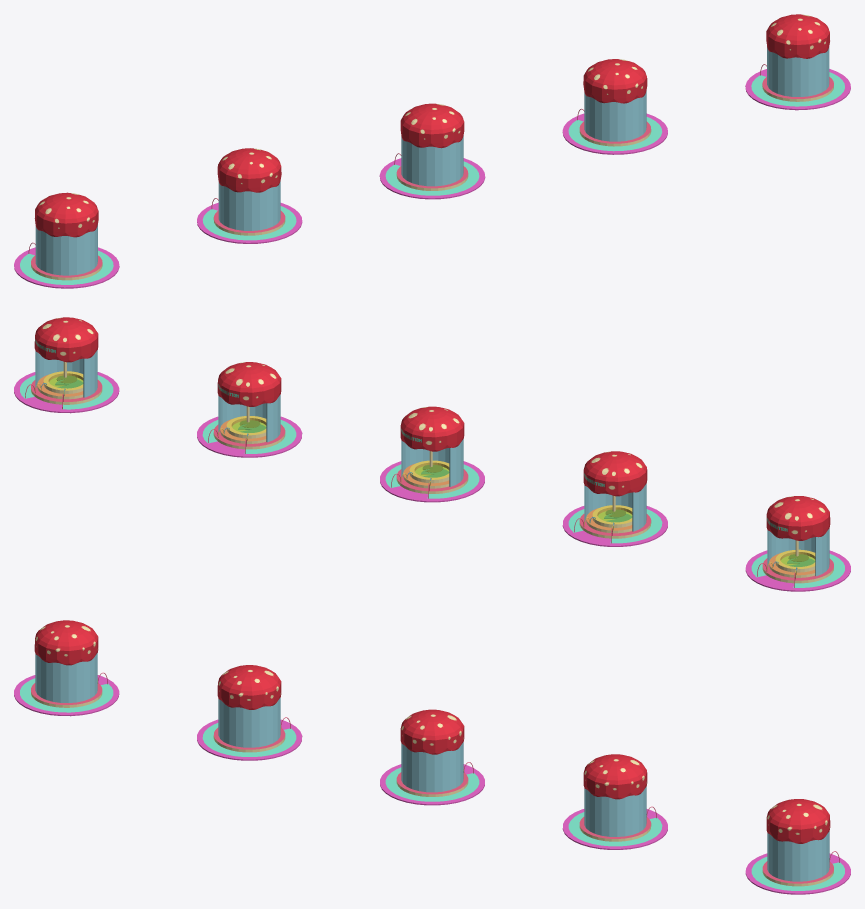
Rendered from Teletransport_D4.fbx.
3 views of the same model, one above another, from view 1: azimuth 30°, elevation 25°; view 2: azimuth 150°, elevation 25°; view 3: azimuth 330°, elevation 25° (orthographic).
Parts seen in each view (by area): view 1: Cylinder.055; view 2: Cylinder.055; view 3: Cylinder.055.
Part boxes in pixels (<box>): Cylinder.055: <box>14,14,850,288</box>; Cylinder.055: <box>14,317,850,591</box>; Cylinder.055: <box>14,620,850,894</box>.
Bounding box in the file's own units: 7044 × 560 × 783.
Materials: 4 (3 with a texture image).
